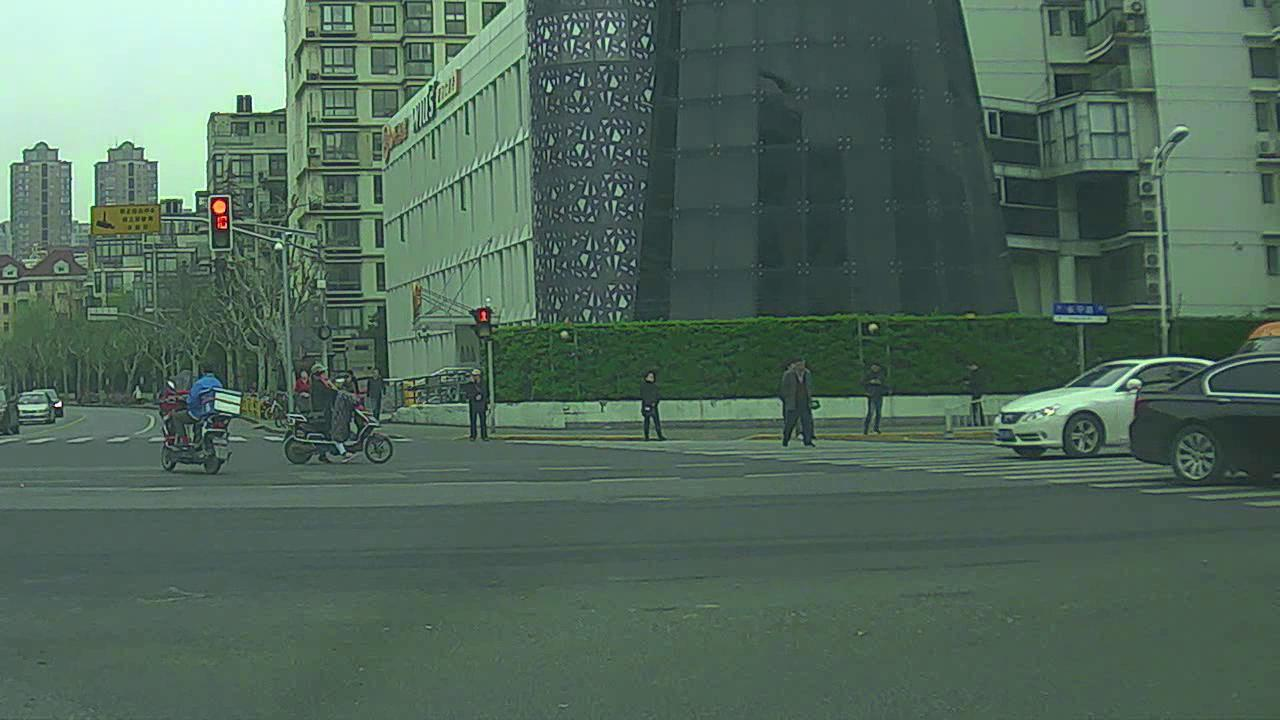traffic_light: (206, 195, 232, 252)
